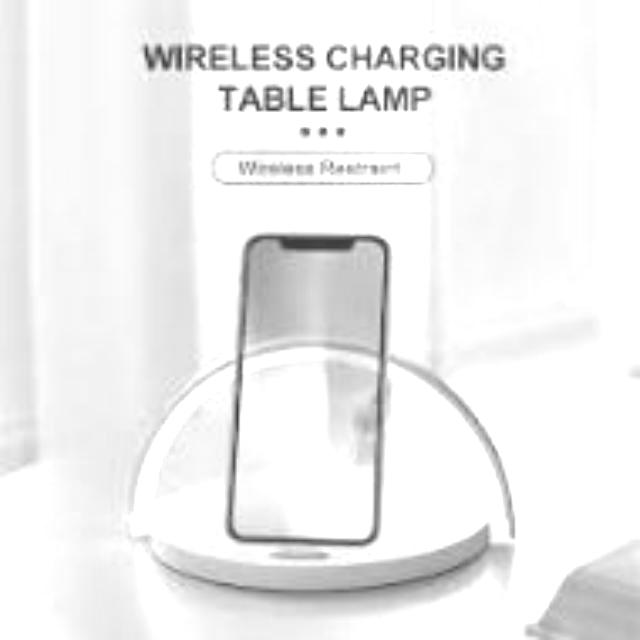fake: (238, 224, 382, 554)
